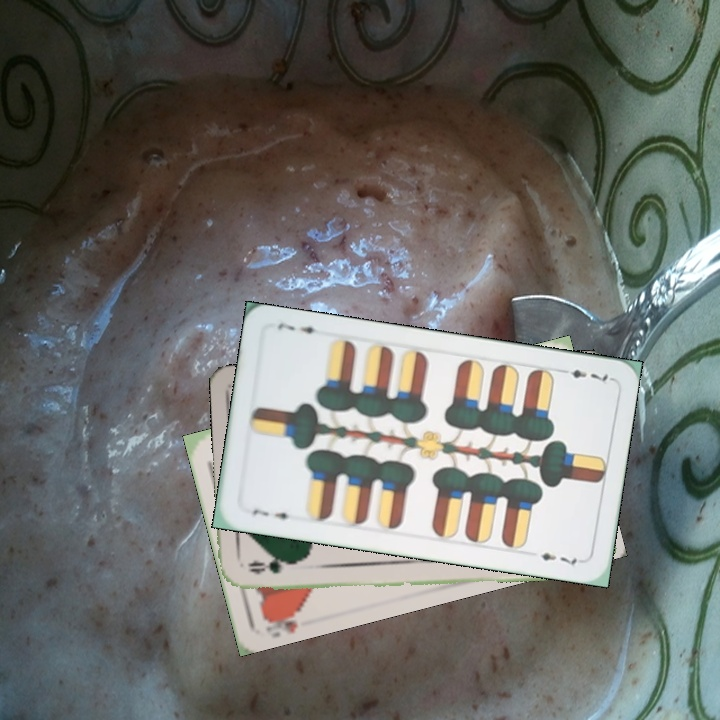E7: (554, 365, 613, 384), (248, 505, 298, 524)
GO: (244, 556, 301, 577)
HO: (260, 603, 309, 636)
